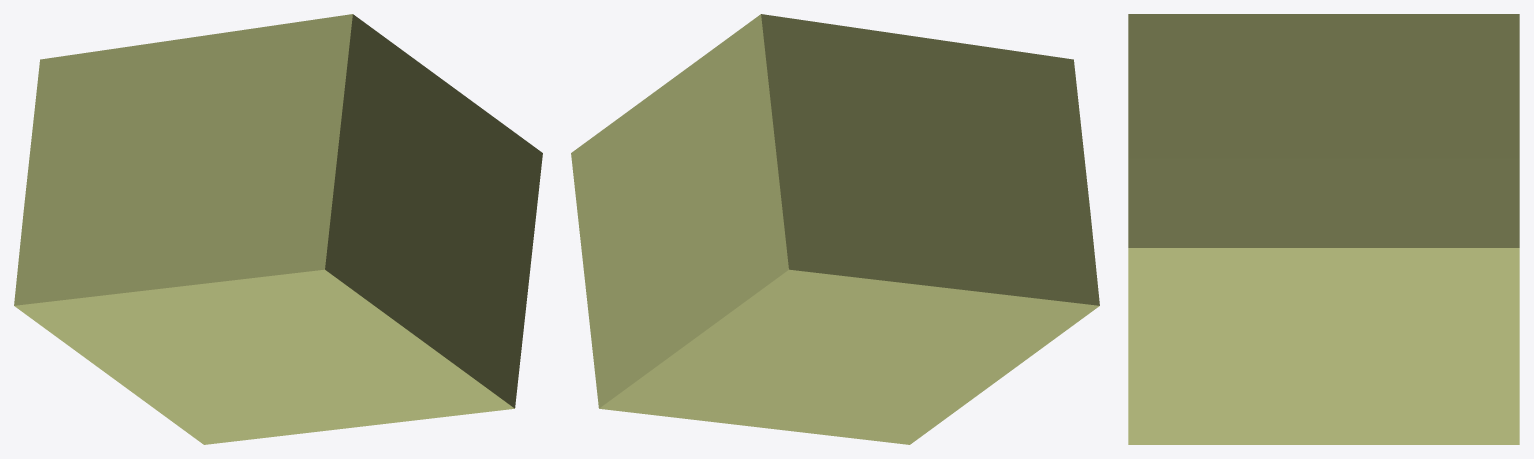
3 renders of one model, left to right at view 1: azimuth 30°, elevation 25°; view 2: azimuth 150°, elevation 25°; view 3: azimuth 270°, elevation 25°, orthographic. The views are drawn at different scales.
Visible parts, largest first — view 1: 0_0_1_2_3_3_0_0_3_2; view 2: 0_0_1_2_3_3_0_0_3_2; view 3: 0_0_1_2_3_3_0_0_3_2.
Part boxes in pixels (x1,y1,x2,y2): 0_0_1_2_3_3_0_0_3_2: (14,14,542,444); 0_0_1_2_3_3_0_0_3_2: (571,14,1099,444); 0_0_1_2_3_3_0_0_3_2: (1128,14,1519,444).
Bounding box in the file's own units: 6.18 × 4.87 × 6.
